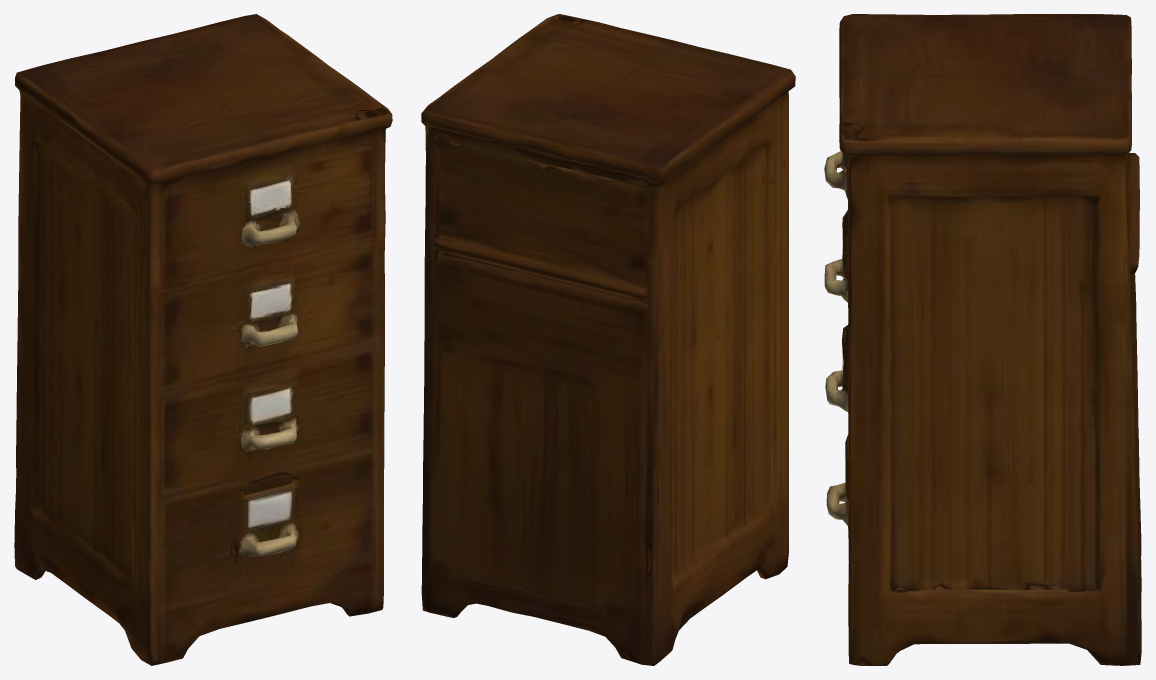
Rendered from archivador.glb.
The picture shows the model from 3 angles, left to right: view 1: azimuth 30°, elevation 25°; view 2: azimuth 150°, elevation 25°; view 3: azimuth 270°, elevation 25°; orthographic projection. The views are drawn at different scales.
Parts seen in each view (by area): view 1: geometry_0; view 2: geometry_0; view 3: geometry_0.
Part boxes in pixels (x1=…): geometry_0: x1=14, y1=14, x2=392, y2=665; geometry_0: x1=421, y1=14, x2=795, y2=665; geometry_0: x1=824, y1=14, x2=1141, y2=665.
Size of the model in its own units: 0.62 by 1.2 by 0.65.
1 material, 1 textured.
